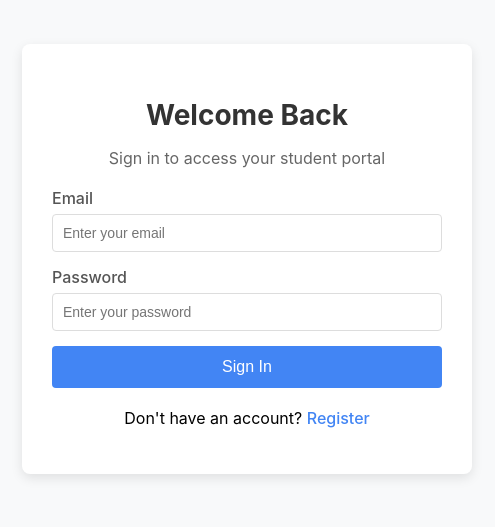
Test case: Login – failed submission › clears previous error message when submitting again successfully
The width and height of the screenshot is (495, 527).
Act – first (failed) submit
Type "user@test.com" into the field labelled "Email" at (247, 233), box [52,214,442,252]
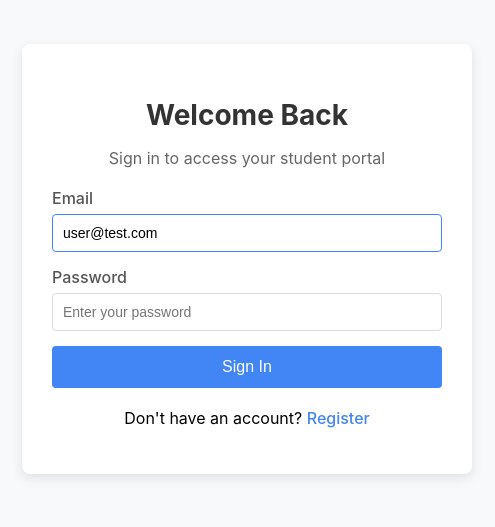
Type "bad" into the password field labelled "Password" at (247, 312), box [52,293,442,331]
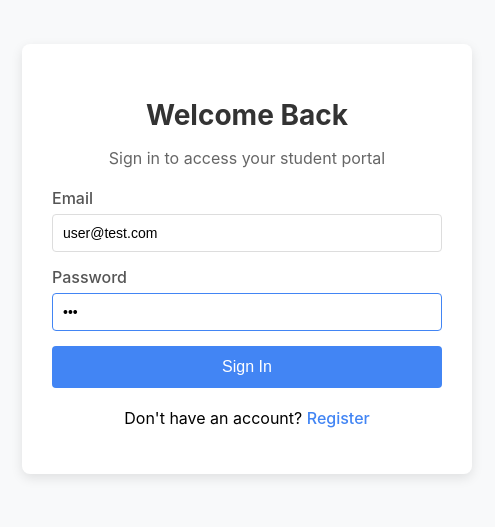
Submit the form "Email Password Sign In", box [52,188,442,388]
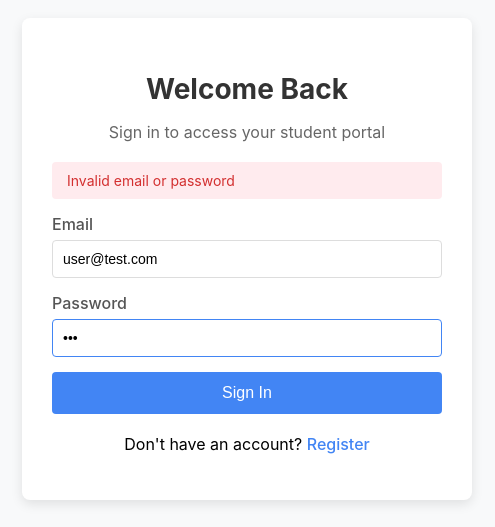
Result: the text "Invalid email or password" is shown at [52,162,442,199]
Act – second (successful) submit
Submit the form "Email Password Sign In", box [52,214,442,414]
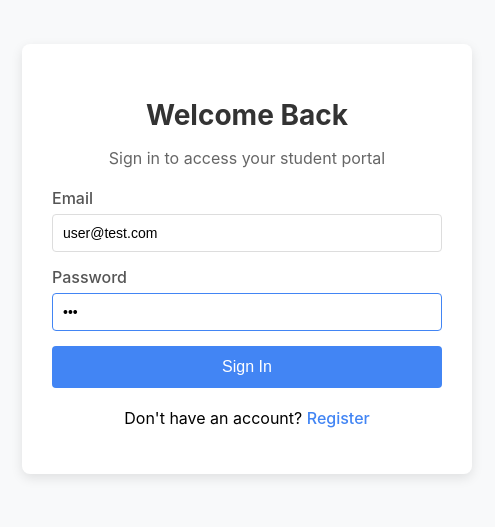
Result: the text "Invalid email or password" is gone
